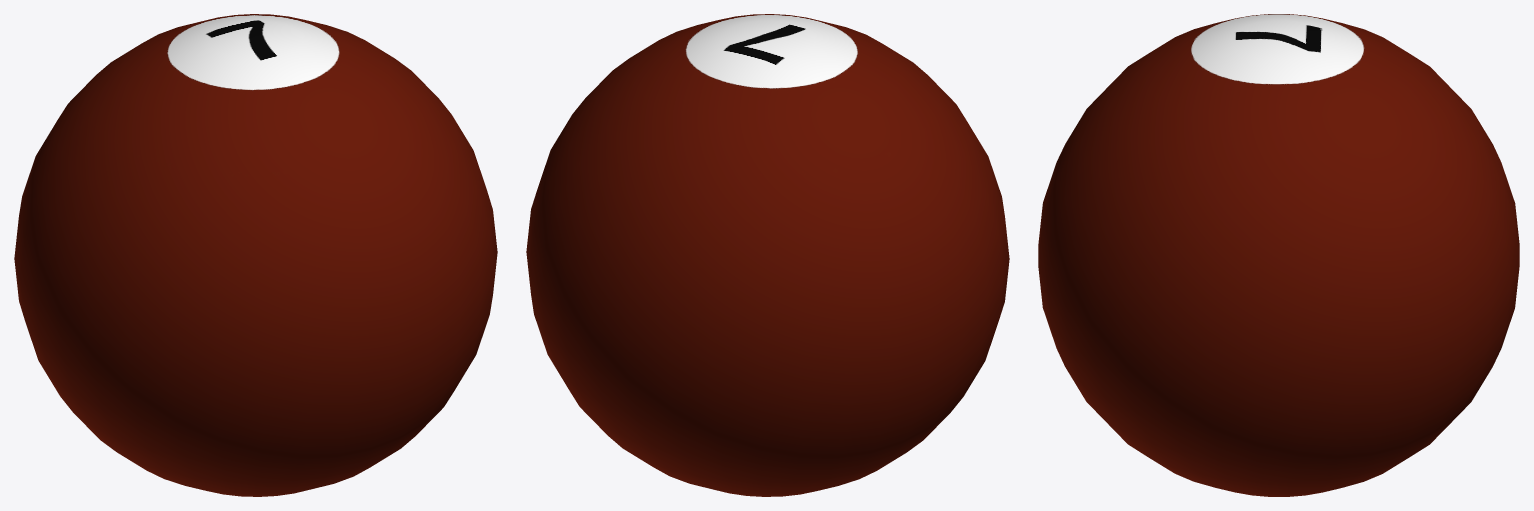
File: 7Ball.glb
3 views of the same model, side by side, from view 1: azimuth 30°, elevation 25°; view 2: azimuth 150°, elevation 25°; view 3: azimuth 270°, elevation 25° (orthographic).
Visible parts, largest first — view 1: SphereSolid; view 2: SphereSolid; view 3: SphereSolid.
Boxes of the visible parts, x1,y1,x2,y2 form: SphereSolid: (14,14,497,496); SphereSolid: (526,14,1009,496); SphereSolid: (1038,14,1519,496).
Size of the model in its own units: 0.1991 by 0.2 by 0.1991.
1 material, 1 textured.
